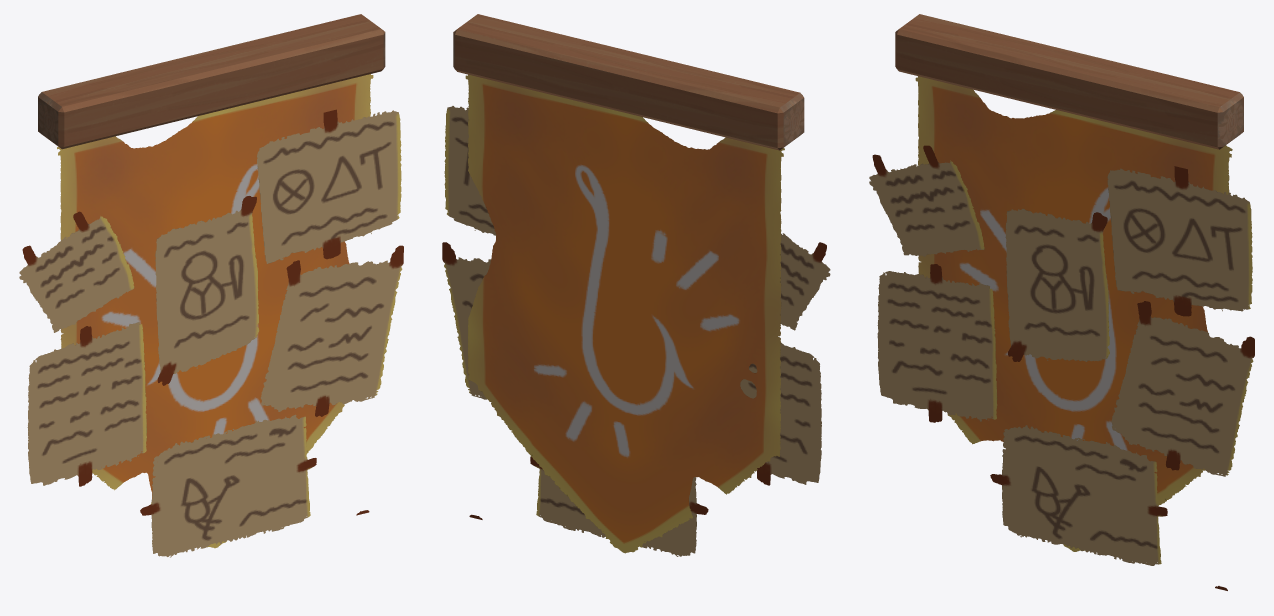
The model's file is frufru.fbx.
3 views of the same model, side by side, from view 1: azimuth 30°, elevation 25°; view 2: azimuth 150°, elevation 25°; view 3: azimuth 330°, elevation 25° (orthographic).
Visible parts, largest first — view 1: Paineis, Bandeira; view 2: Bandeira, Paineis; view 3: Paineis, Bandeira.
Part boxes in pixels (box(x1,y1,x2,y2)): Paineis: box(19, 109, 403, 557); Bandeira: box(38, 14, 385, 548); Bandeira: box(453, 14, 804, 553); Paineis: box(442, 106, 830, 556); Paineis: box(869, 145, 1254, 565); Bandeira: box(895, 14, 1243, 590).
Bounding box in the file's own units: 62.32 × 74.01 × 6.78.
